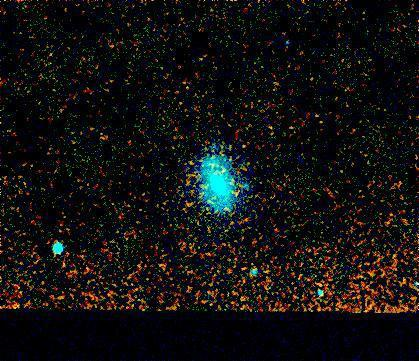star: (1, 294, 31, 324)
